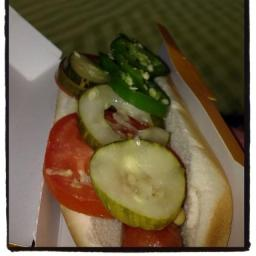hotdog: (120, 224, 188, 256)
